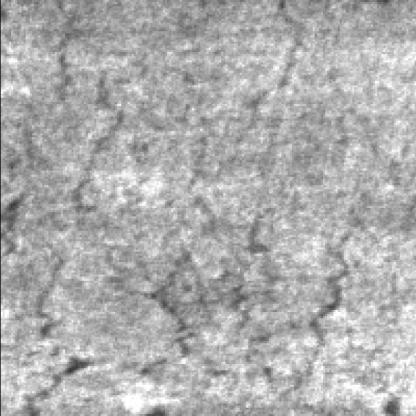crazing: (66, 2, 308, 298), (125, 212, 364, 397), (8, 37, 123, 412)
